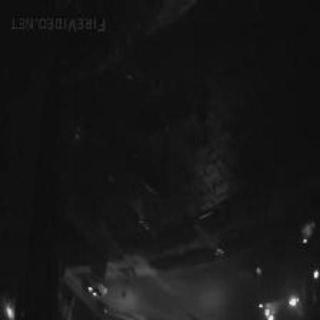other: (250, 290, 308, 320)
